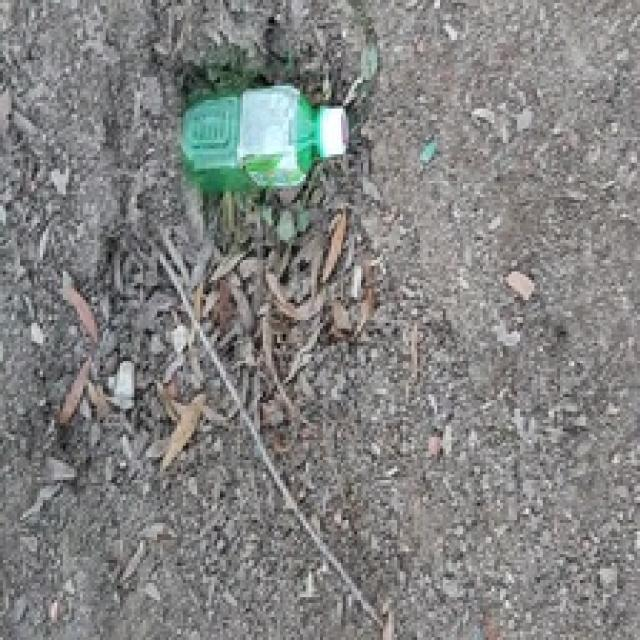garbage: (167, 70, 369, 214)
